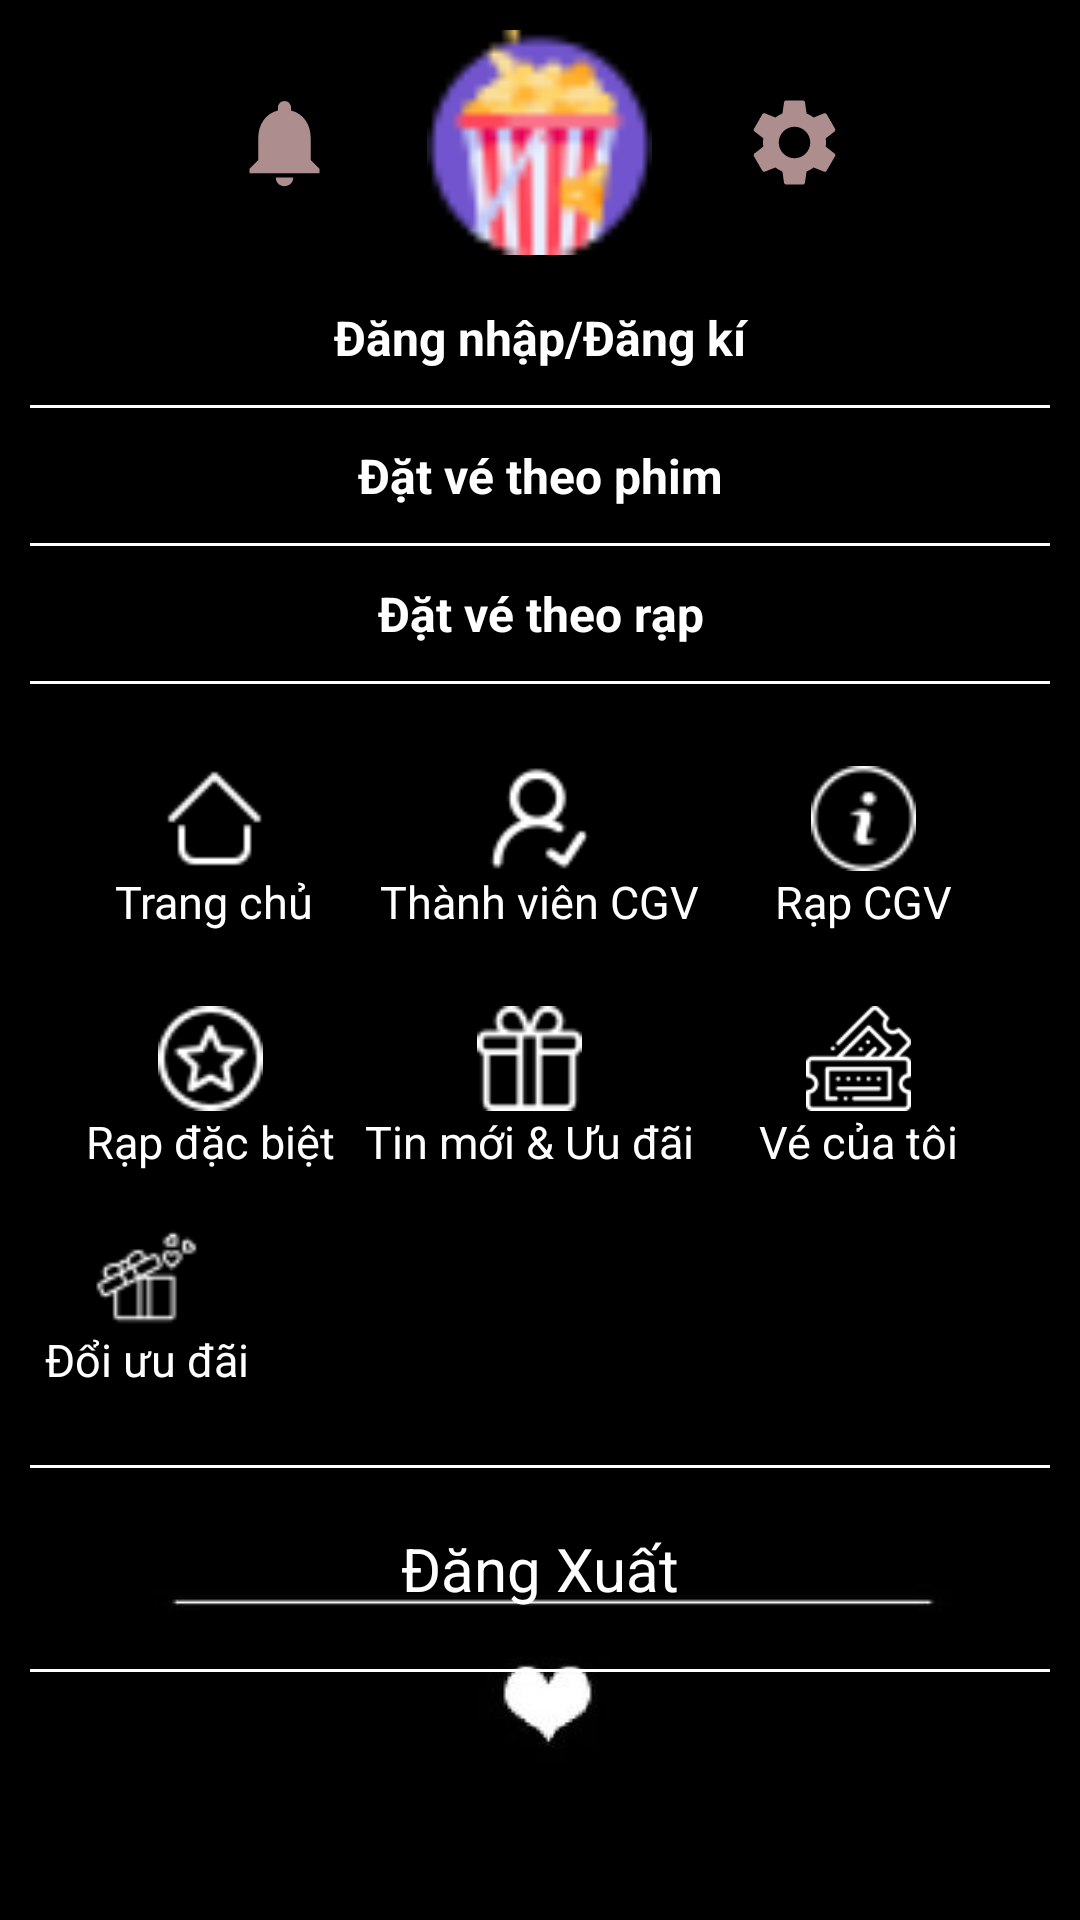

Screen size 1080px×1920px. Icon name, then its center in pixels as (x=x, y=y):
gift: (x=529, y=1058)
info: (x=863, y=818)
notifications: (x=284, y=144)
popcorn: (x=539, y=142)
settings: (x=794, y=142)
star: (x=210, y=1058)
surprise: (x=146, y=1277)
